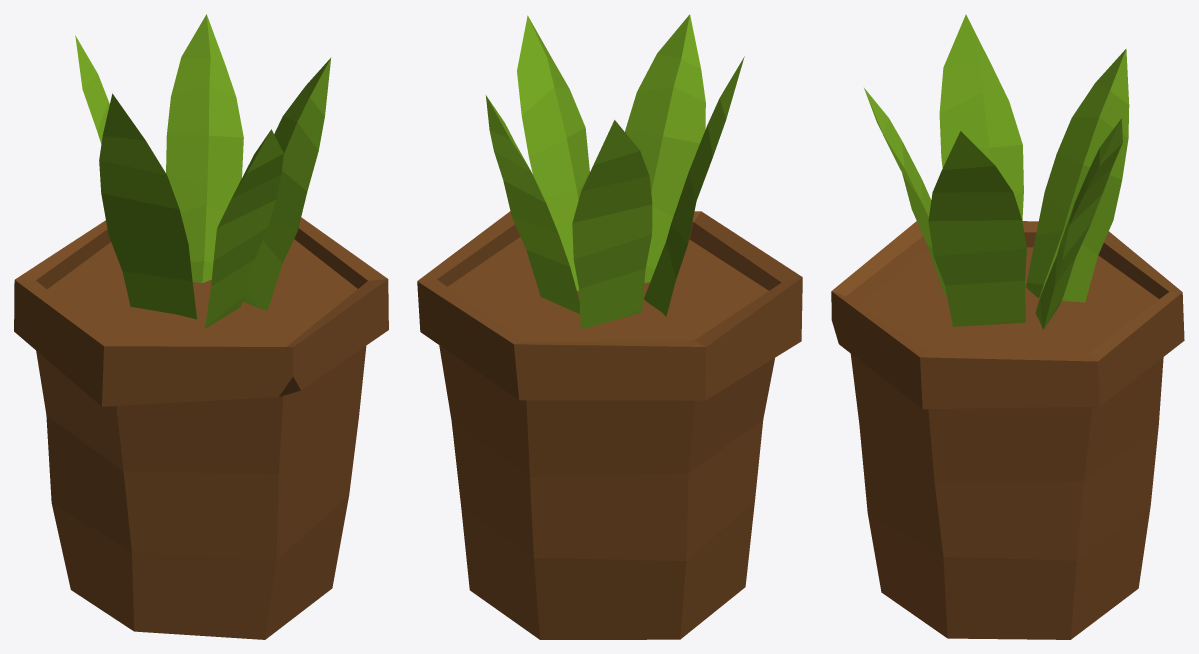
Rendered from plant pot.fbx.
The picture shows the model from 3 angles, left to right: view 1: azimuth 30°, elevation 25°; view 2: azimuth 150°, elevation 25°; view 3: azimuth 270°, elevation 25°; orthographic projection. The views are drawn at different scales.
Parts seen in each view (by area): view 1: plant pot, plant; view 2: plant pot, plant; view 3: plant pot, plant.
Part boxes in pixels (box(x1,y1,x2,y2)): plant pot: box(14, 217, 388, 639); plant: box(75, 14, 331, 328); plant pot: box(417, 211, 802, 639); plant: box(486, 14, 744, 329); plant pot: box(831, 221, 1184, 639); plant: box(864, 14, 1129, 329).
Bounding box in the file's own units: 18.38 × 20.11 × 33.1.
